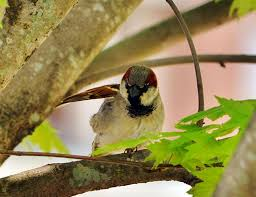hsparrow: (67, 63, 169, 161)
